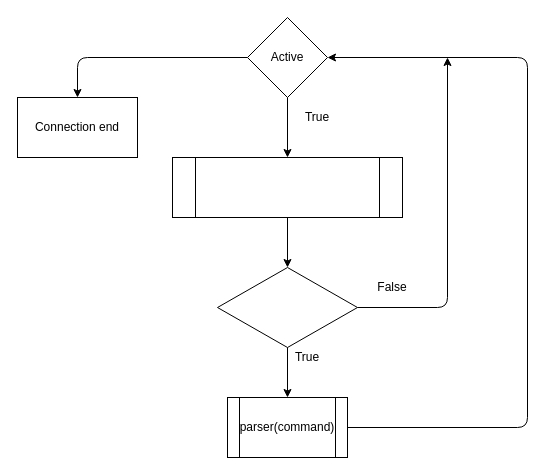
This 553x475 diagram has some shape labels left out. The box of each missing label's shape, as (x1, y1, x2, y2) in pixels:
command != None: (216, 266, 358, 348)
normalizeCommand(readBuffer): (172, 156, 402, 218)
